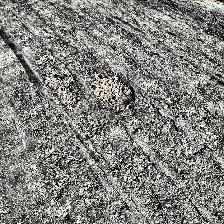pothole: (34, 56, 80, 106), (90, 72, 136, 114)
